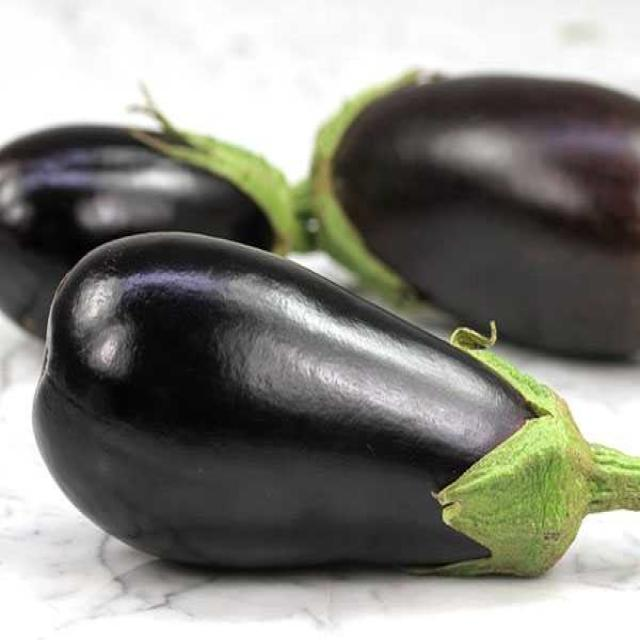Eggplant-r1Ob: (34, 233, 640, 576), (308, 78, 640, 358), (0, 125, 274, 336)
